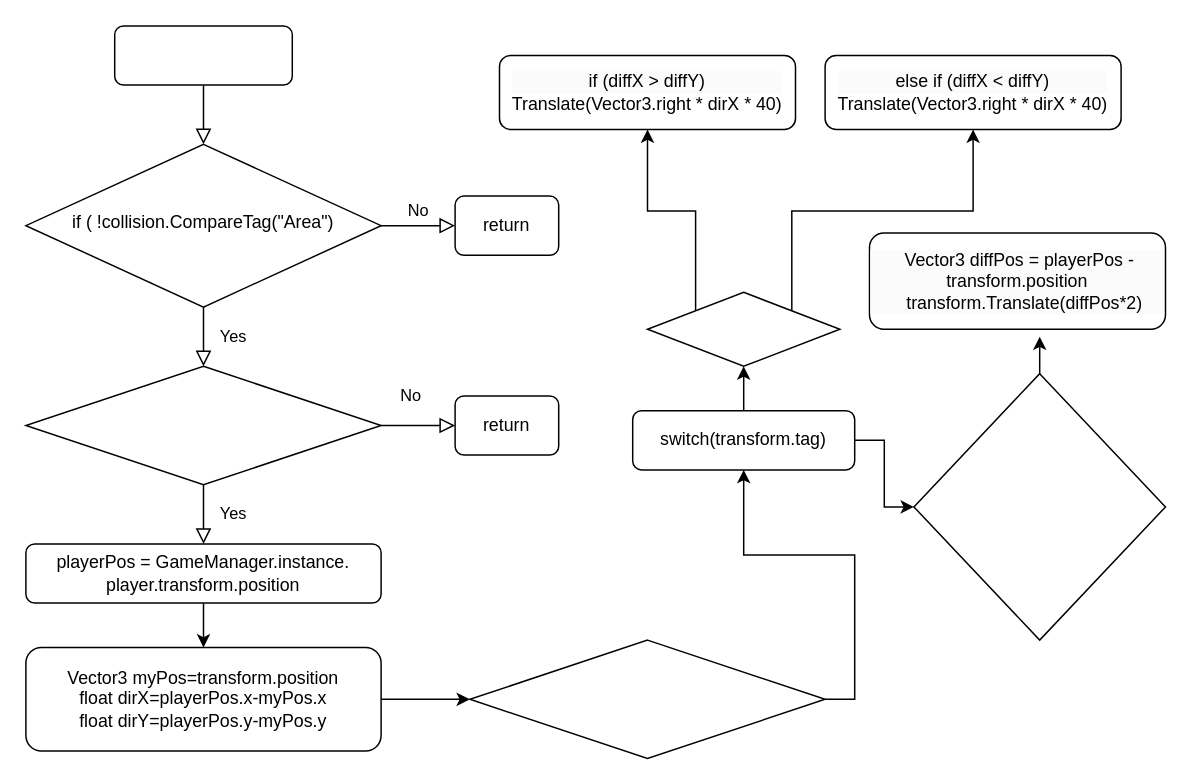
Some shapes in this 1191 by 784 pixel diagram are drawn without their labels. Each missing label, with the centre of its shape:
case "Enemy": case "Boss": case "ItemPurple": case "ItemDia": case "ItemRed":: (x=1039, y=506)
case "Ground": (x=743, y=328)
dirX = dirX > 0 ? 1 : -1 dirY = dirY > 0 ? 1 : -1: (x=646, y=698)
if(GameManager.instance ?.player == null): (x=202, y=425)
OnTriggerExit2D: (x=202, y=54)
